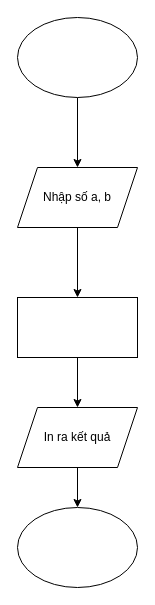
Image size: 155x605. Some labels were removed from this diagram. The shapes that lost their labels are listed below. From the top down, each one's centre as x and y in pixels, then its label:
the point at 77,57: Bắt đầu
the point at 77,327: Tính tổng s = a + b
